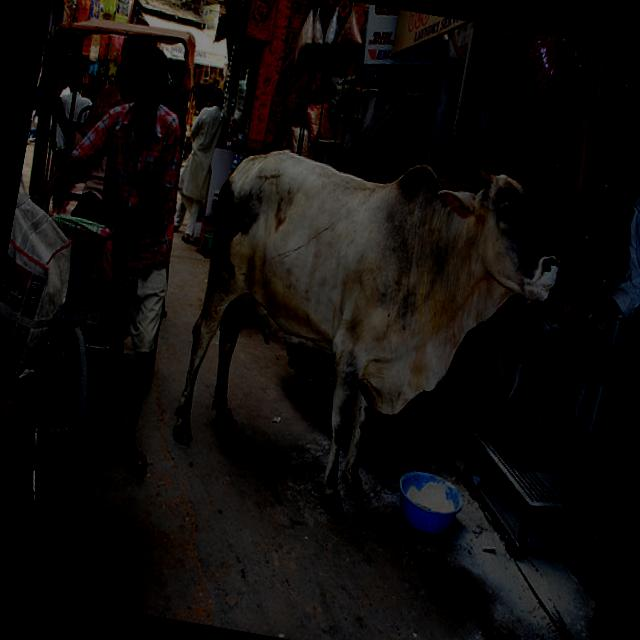Vehicle: (262, 342, 456, 489)
